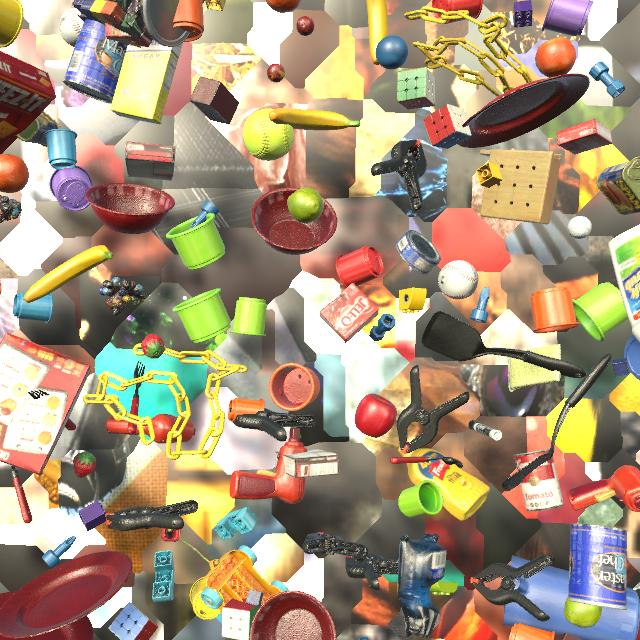ycb_002_master_chef_can: (63, 20, 127, 104), (568, 523, 627, 610)
ycb_003_cracker_box: (0, 332, 91, 475), (0, 51, 56, 154)
ycb_004_sugar_box: (110, 39, 183, 124)
ycb_005_tomato_soup_can: (514, 449, 564, 512)
ycb_006_mustard_bottle: (398, 447, 490, 521)
ycb_007_tuna_fish_can: (396, 230, 441, 275)
ycb_008_pudding_box: (125, 141, 176, 181), (275, 448, 340, 478)
ycb_009_gelatin_box: (319, 283, 380, 343), (556, 119, 612, 155), (105, 23, 133, 44)
ycb_010_potted_meat_can: (597, 157, 640, 215), (16, 111, 61, 147)
ycb_011_banana: (23, 245, 113, 303), (269, 108, 361, 130), (366, 0, 388, 65)
ycb_012_strawberry: (141, 334, 165, 359), (73, 452, 96, 478)
ycb_013_apple: (355, 393, 397, 438)
ycb_016_pear: (287, 187, 324, 223), (564, 595, 602, 628)
ycb_017_orange: (535, 37, 576, 78), (0, 154, 29, 193), (266, 0, 301, 13)
